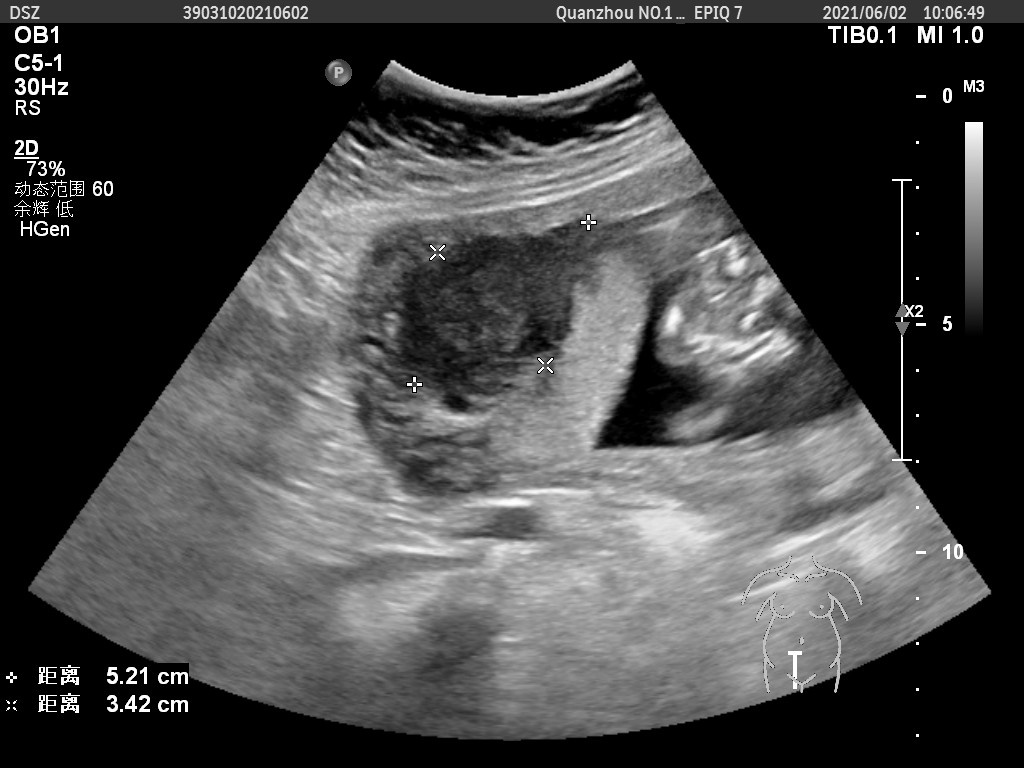肌瘤: (416, 248, 562, 397)
